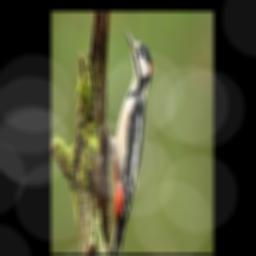Woodpecker: (98, 29, 151, 254)
